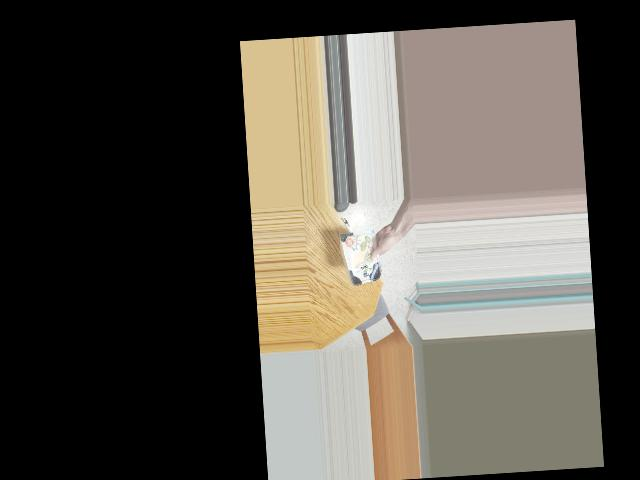cheese: (343, 236, 382, 287)
